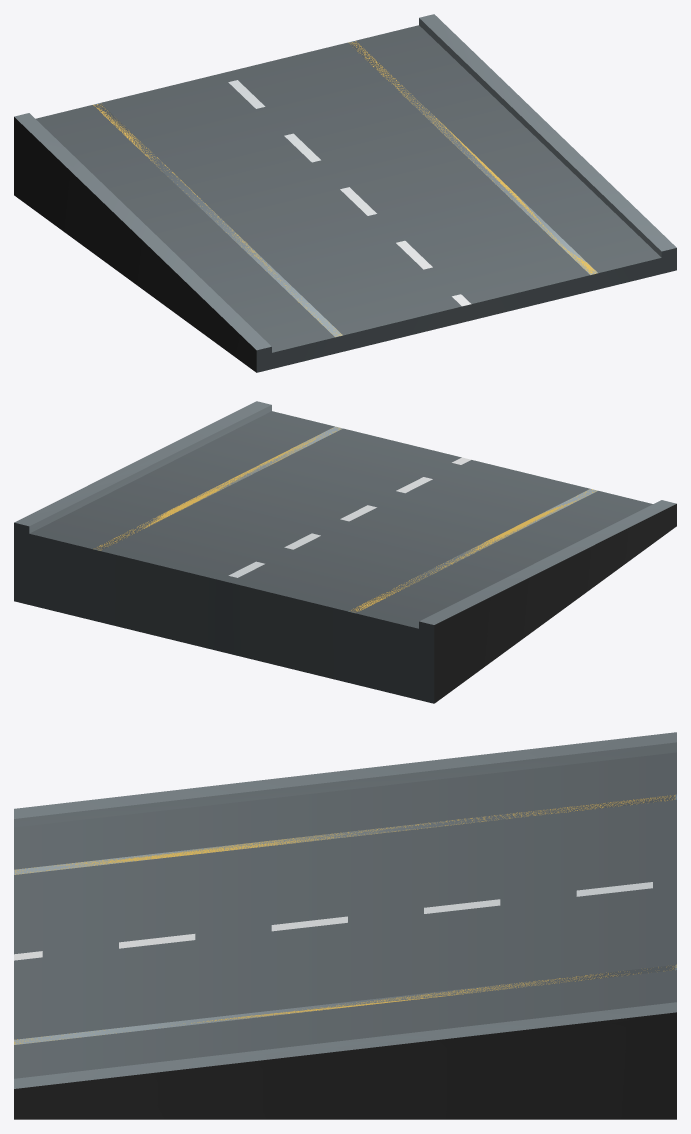
Rendered from tanjakan.glb.
3 views of the same model, one above another, from view 1: azimuth 30°, elevation 25°; view 2: azimuth 150°, elevation 25°; view 3: azimuth 270°, elevation 25° (orthographic). The views are drawn at different scales.
Parts seen in each view (by area): view 1: Tanjakan; view 2: Tanjakan; view 3: Tanjakan.
Part boxes in pixels (left/top/right/bottom): Tanjakan: left=14, top=14, right=676, bottom=372; Tanjakan: left=14, top=401, right=676, bottom=703; Tanjakan: left=14, top=732, right=676, bottom=1119.
Size of what is drawn, in the model's own units: 2 by 0.3577 by 2.
Materials: 1 (1 with a texture image).
